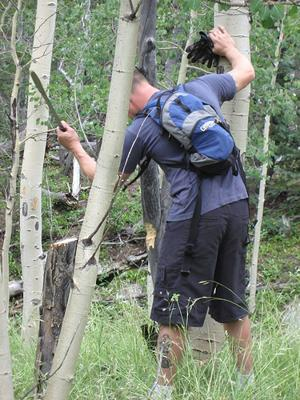person: (54, 24, 257, 400)
